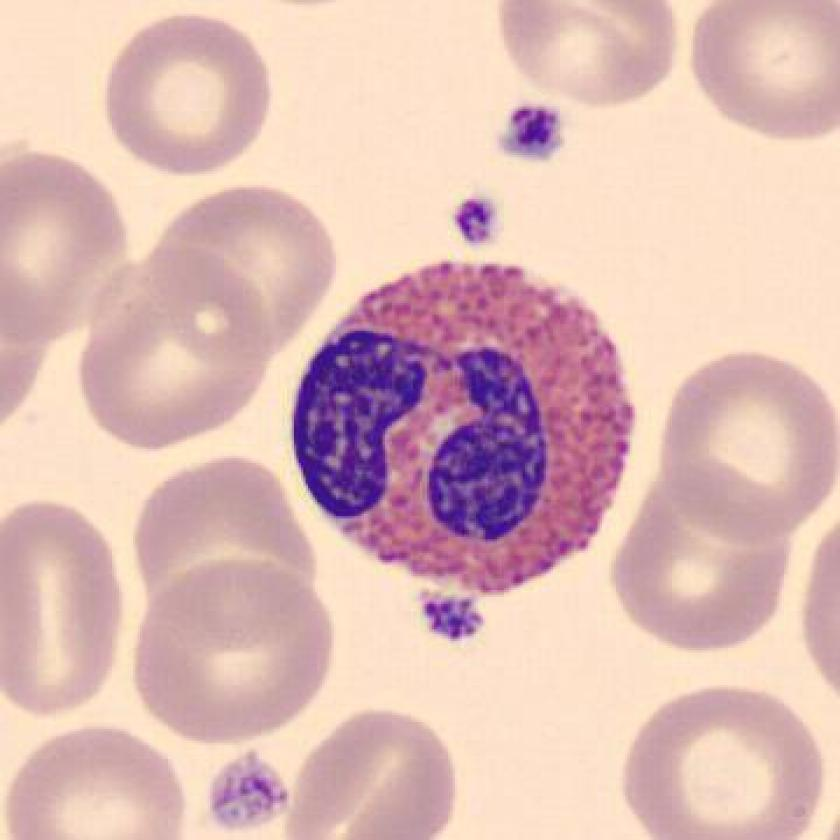eosinophil: (279, 240, 647, 608)
